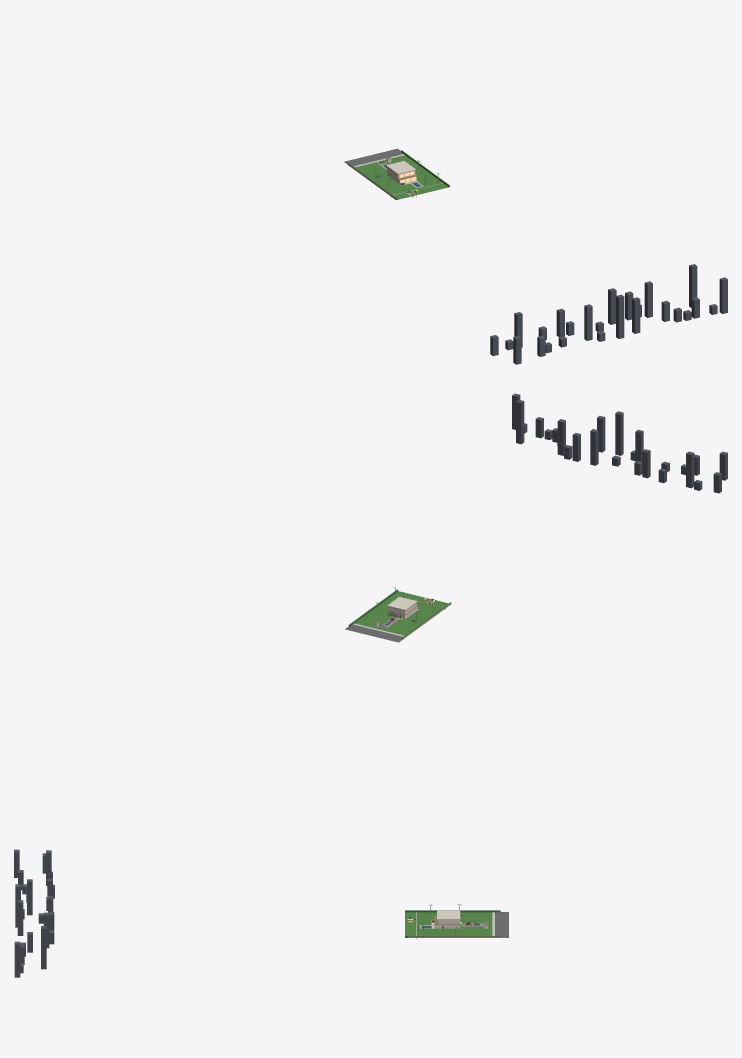
The model's file is casa.glb.
The picture shows the model from 3 angles, top to bottom: view 1: azimuth 30°, elevation 25°; view 2: azimuth 150°, elevation 25°; view 3: azimuth 270°, elevation 25°; orthographic projection.
Visible parts, largest first — view 1: skyline|MI_skyline, lawn|MI_lawn; view 2: skyline|MI_skyline, lawn|MI_lawn; view 3: skyline|MI_skyline, lawn|MI_lawn.
Part boxes in pixels (bbox=[...]): skyline|MI_skyline: bbox=[490, 264, 727, 364]; lawn|MI_lawn: bbox=[355, 155, 448, 199]; skyline|MI_skyline: bbox=[512, 393, 727, 493]; lawn|MI_lawn: bbox=[354, 591, 448, 635]; skyline|MI_skyline: bbox=[14, 849, 54, 977]; lawn|MI_lawn: bbox=[405, 912, 492, 935].
Size of the model in its own units: 400 by 33.64 by 509.
